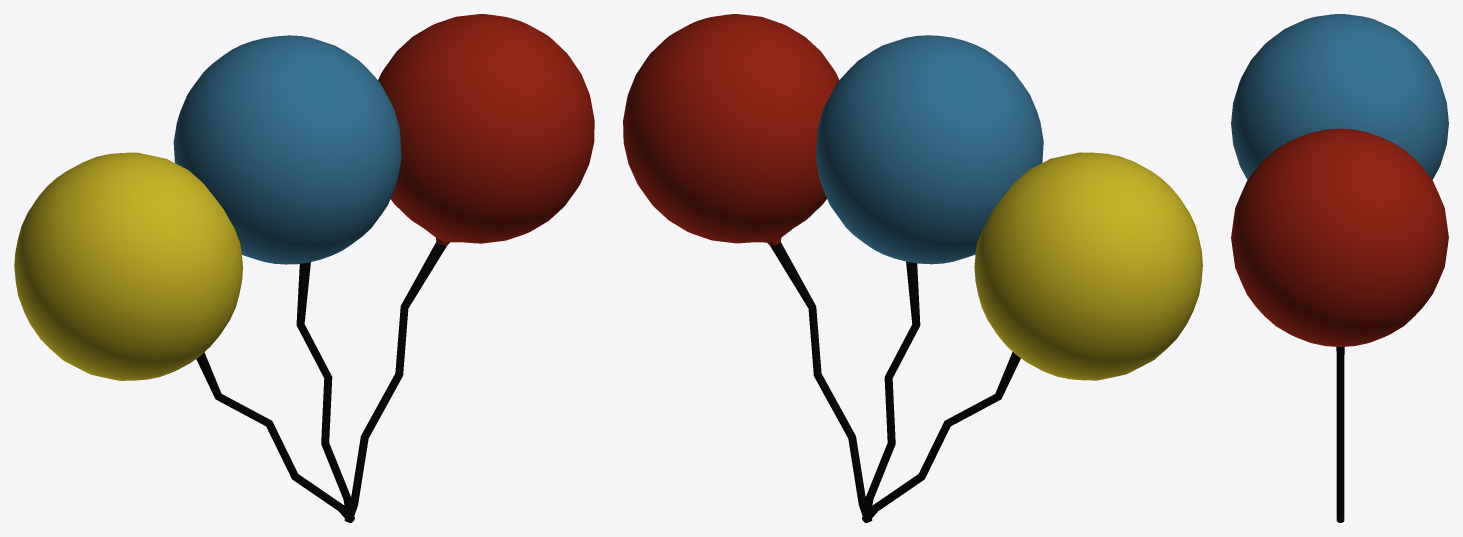
Rendered from Globo HappyToyShop.fbx.
3 views of the same model, side by side, from view 1: azimuth 30°, elevation 25°; view 2: azimuth 150°, elevation 25°; view 3: azimuth 270°, elevation 25° (orthographic). The views are drawn at different scales.
Visible parts, largest first — view 1: Sphere001; view 2: Sphere001; view 3: Sphere001.
Boxes of the visible parts, x1,y1,x2,y2 form: Sphere001: (14,14,594,522); Sphere001: (623,14,1202,522); Sphere001: (1231,14,1448,522).
Bounding box in the file's own units: 39.3 × 33.59 × 14.15.
